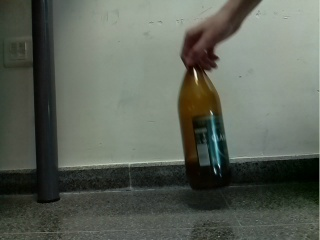pote cristal: (177, 58, 230, 188)
